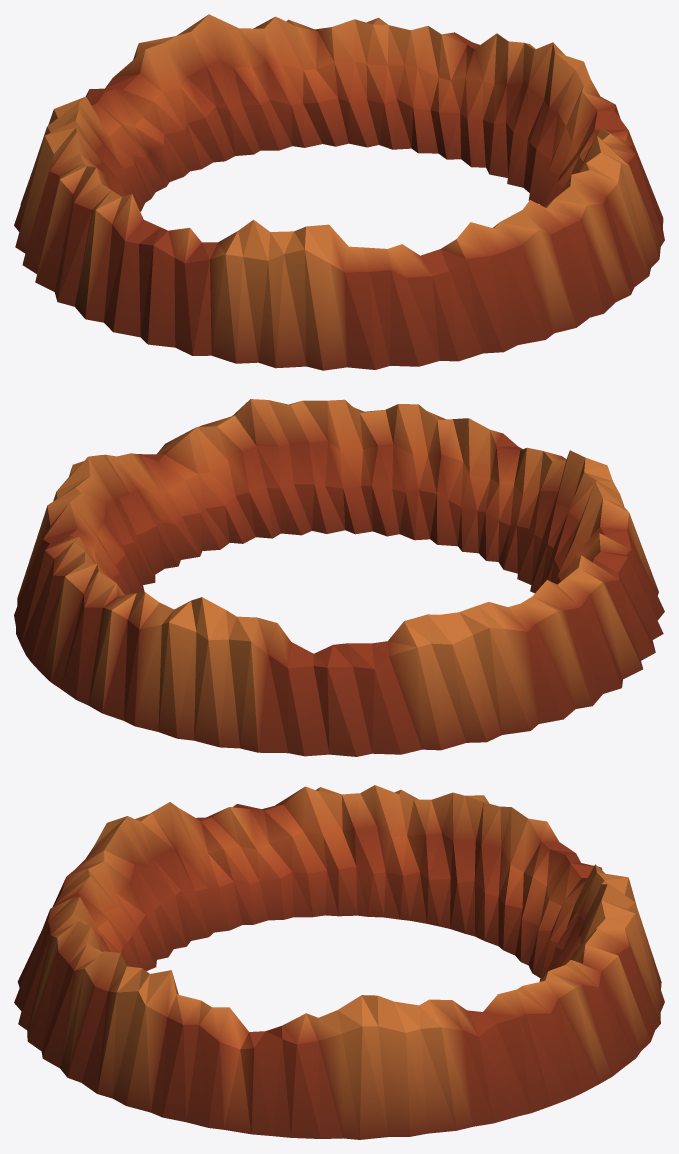
The model's file is mars_canyon_ring.glb.
3 views of the same model, one above another, from view 1: azimuth 30°, elevation 25°; view 2: azimuth 150°, elevation 25°; view 3: azimuth 270°, elevation 25° (orthographic).
Parts seen in each view (by area): view 1: MarsCanyonRing; view 2: MarsCanyonRing; view 3: MarsCanyonRing.
Part boxes in pixels (<box>): MarsCanyonRing: <box>14,14,664,370</box>; MarsCanyonRing: <box>14,399,664,756</box>; MarsCanyonRing: <box>14,785,664,1139</box>.
Size of the model in its own units: 291 by 59.04 by 290.
